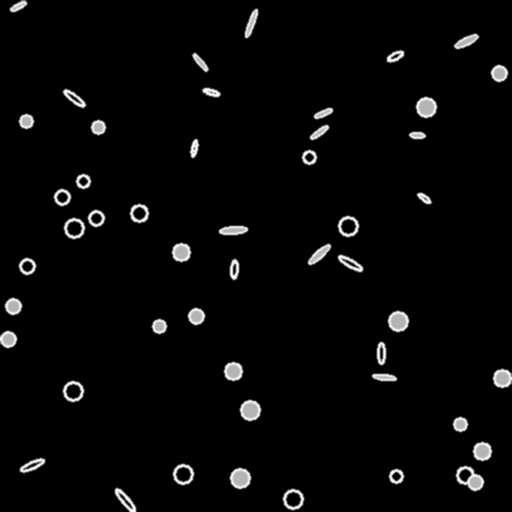pseudomonas: (113, 487, 137, 512), (336, 253, 364, 273), (307, 243, 331, 265), (62, 88, 86, 108), (19, 457, 45, 473), (244, 9, 258, 37), (454, 33, 478, 49), (309, 124, 329, 140), (192, 53, 208, 71), (219, 226, 247, 234), (314, 107, 332, 119), (9, 0, 27, 12), (416, 192, 432, 204), (387, 50, 403, 62), (373, 373, 395, 381), (230, 259, 238, 279), (203, 87, 219, 97), (190, 139, 198, 157), (378, 343, 385, 363), (409, 132, 425, 138)
synechocystis: (284, 490, 302, 508), (64, 382, 82, 400), (65, 219, 83, 237), (231, 469, 249, 487), (417, 98, 435, 116), (339, 217, 357, 235), (389, 312, 407, 330), (174, 465, 192, 483), (241, 401, 259, 419), (173, 244, 189, 260), (225, 363, 241, 379), (457, 467, 473, 483), (131, 205, 147, 221), (474, 443, 490, 459), (494, 370, 510, 386), (89, 211, 103, 225), (55, 190, 69, 204), (189, 309, 203, 323), (492, 66, 506, 80), (468, 475, 482, 489), (6, 299, 20, 313), (20, 259, 34, 273), (1, 332, 15, 346), (77, 175, 89, 187), (153, 320, 165, 332), (92, 121, 104, 133), (303, 151, 315, 163), (20, 115, 32, 127), (454, 418, 466, 430), (390, 470, 402, 482)
